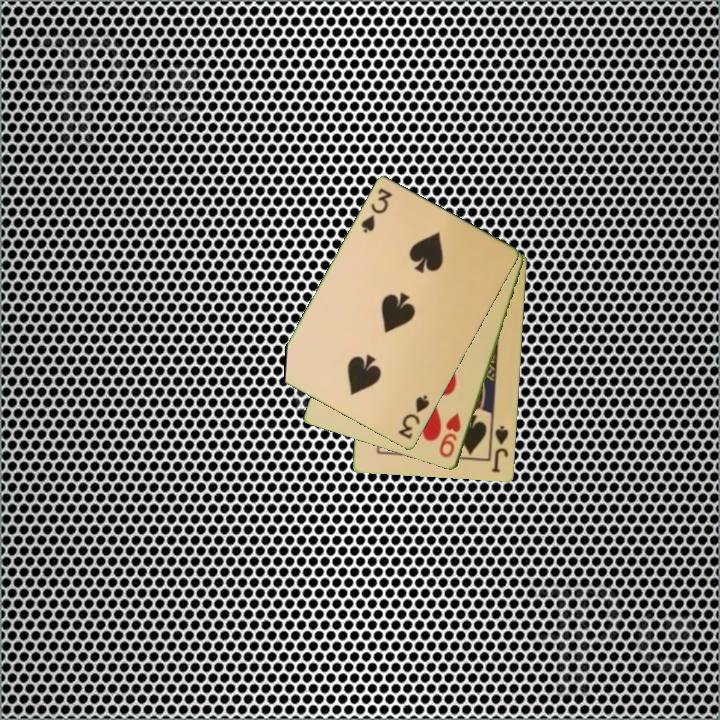3s: (357, 185, 395, 237), (394, 392, 433, 442)
9h: (436, 410, 464, 461)
Js: (488, 422, 511, 476)
